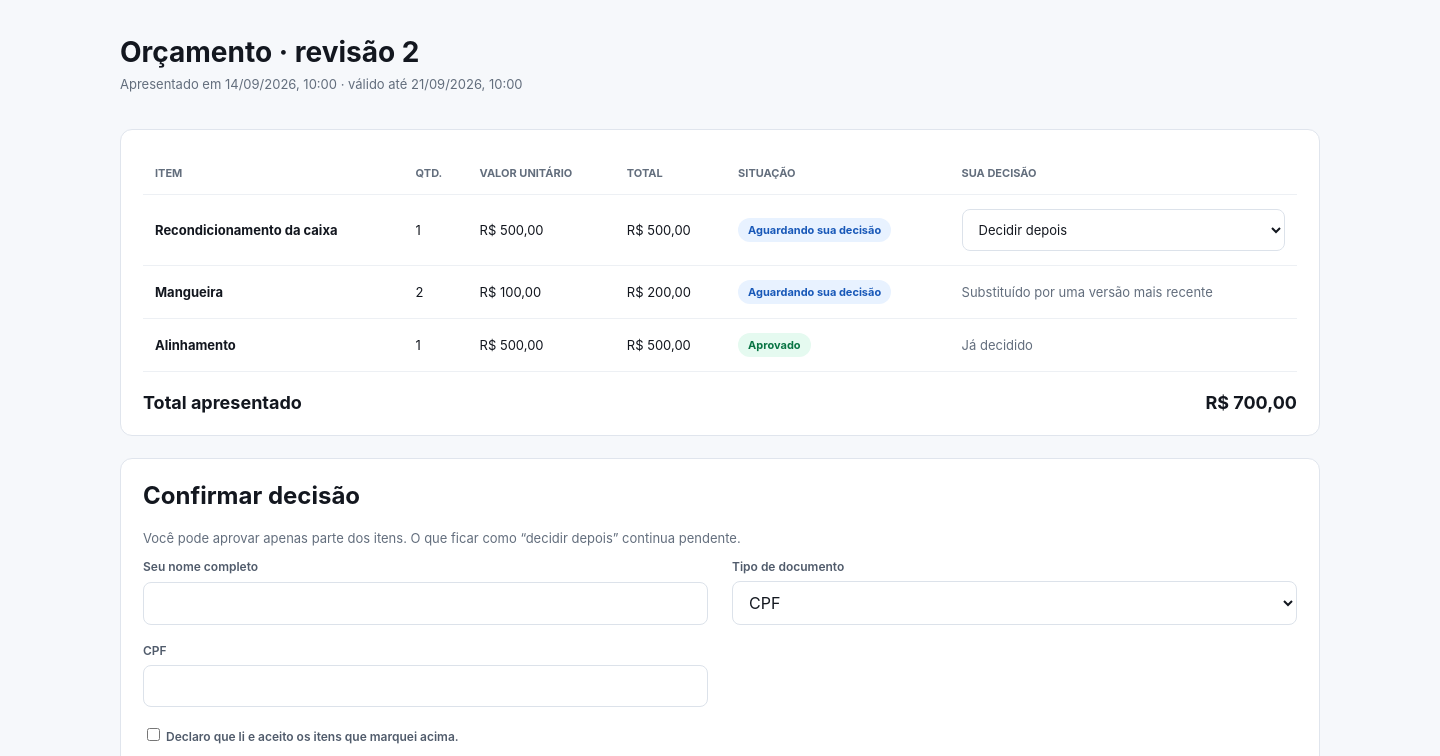
aprovação parcial envia somente os itens decididos
The width and height of the screenshot is (1440, 756).
Step 1. Select "Aprovar" in the dropdown named "Decisão para Recondicionamento da caixa" → point(1123, 230), box [962,209,1285,251]
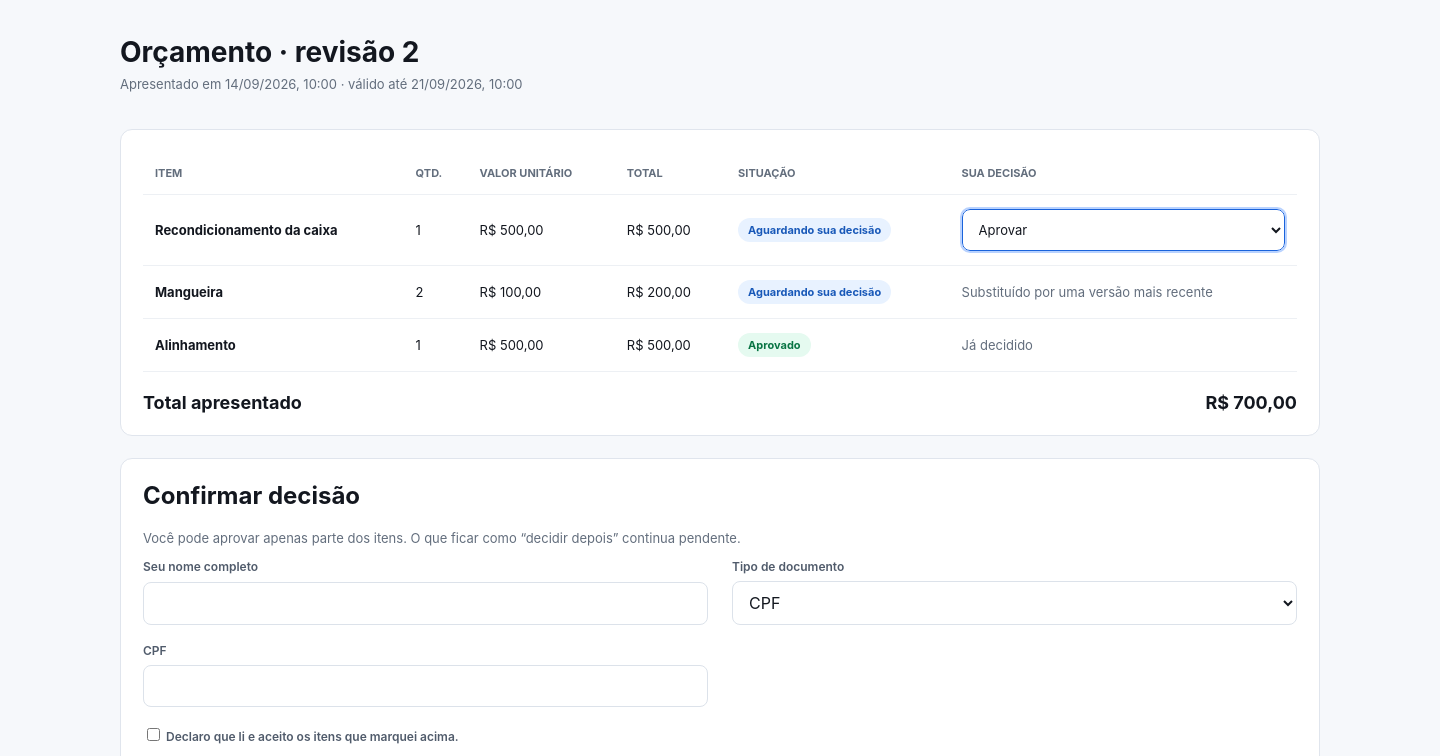
Step 2. Type "José da Silva" into the field labelled "Seu nome completo" → point(426, 603), box [143,582,708,625]
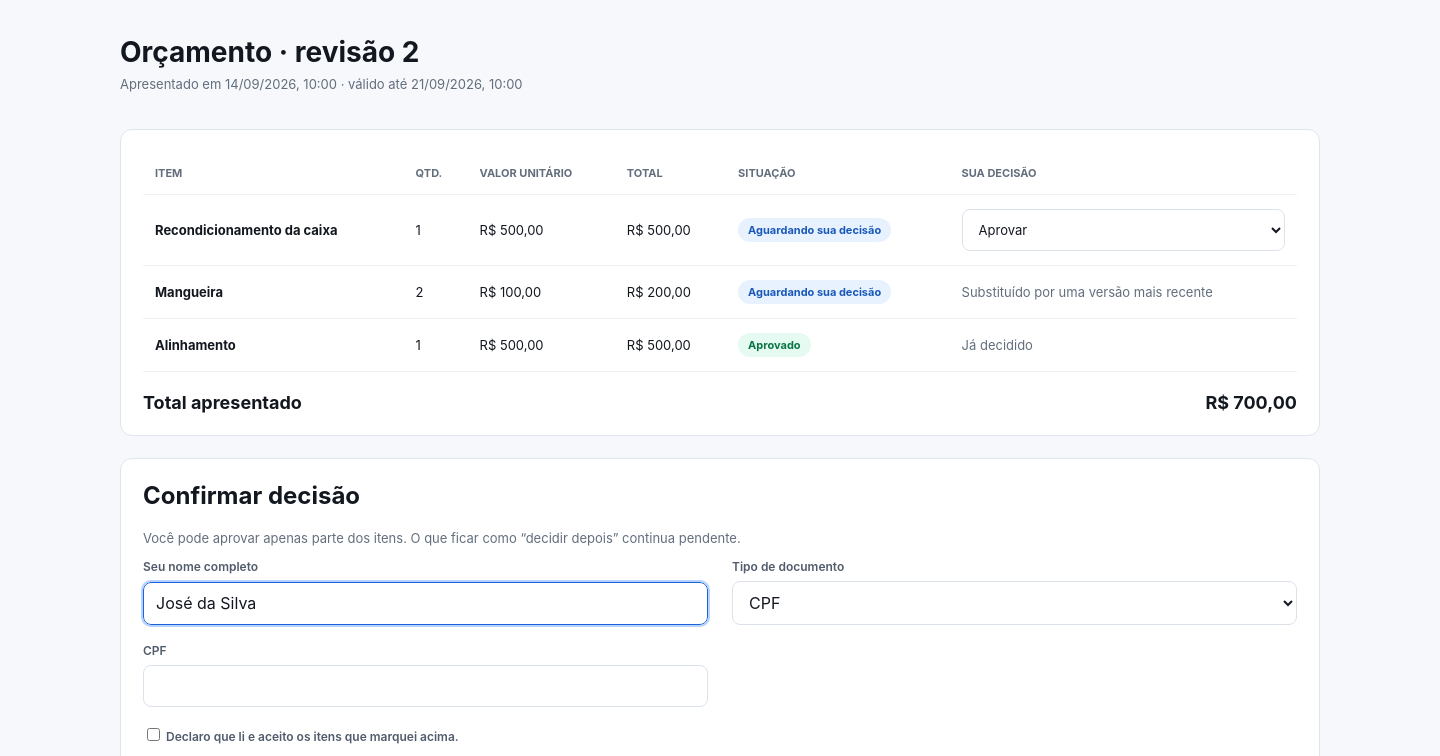
Step 3. Type "12345678901" into the field labelled "CPF" → point(426, 686), box [143,665,708,707]
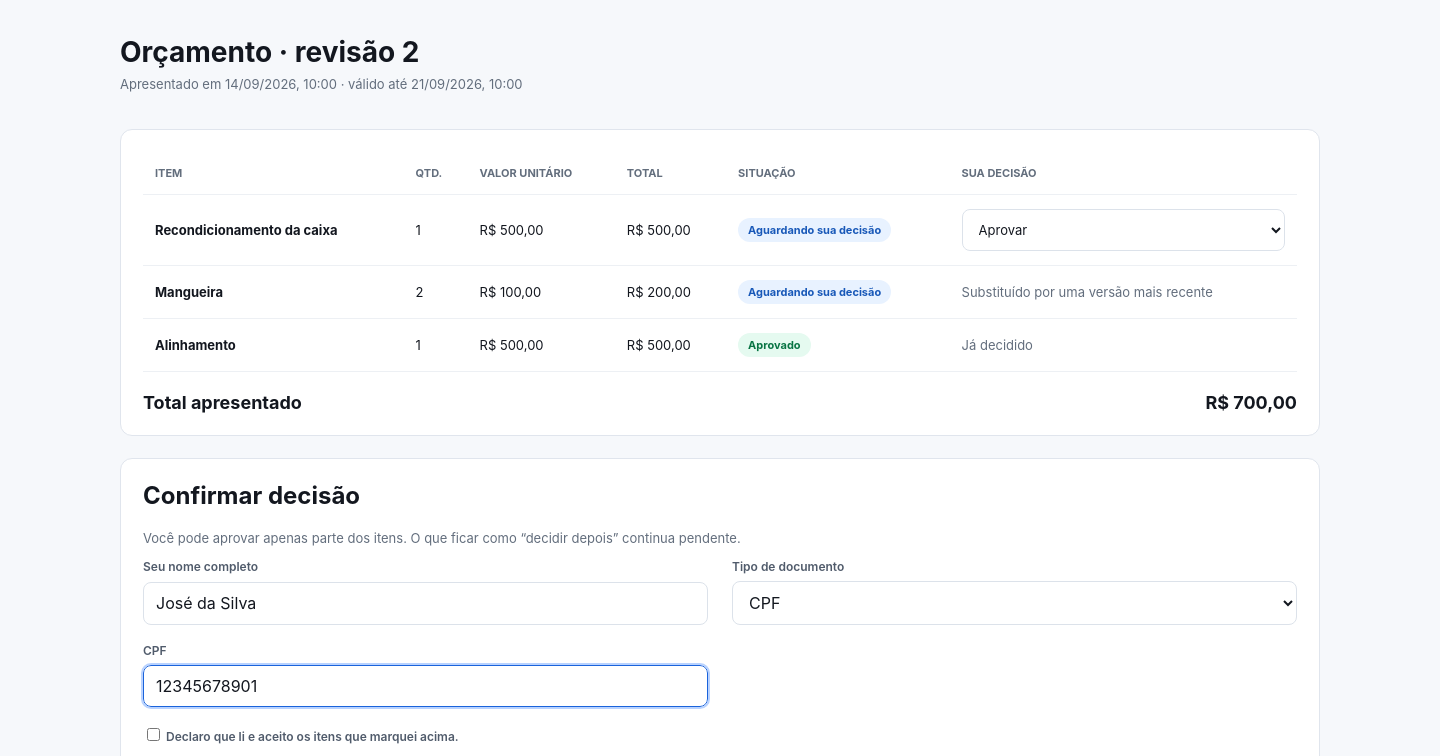
Step 4. Click the checkbox labelled "Declaro que li e aceito os itens que marquei acima." → point(154, 734), box [147,728,160,741]
(page scrolled)
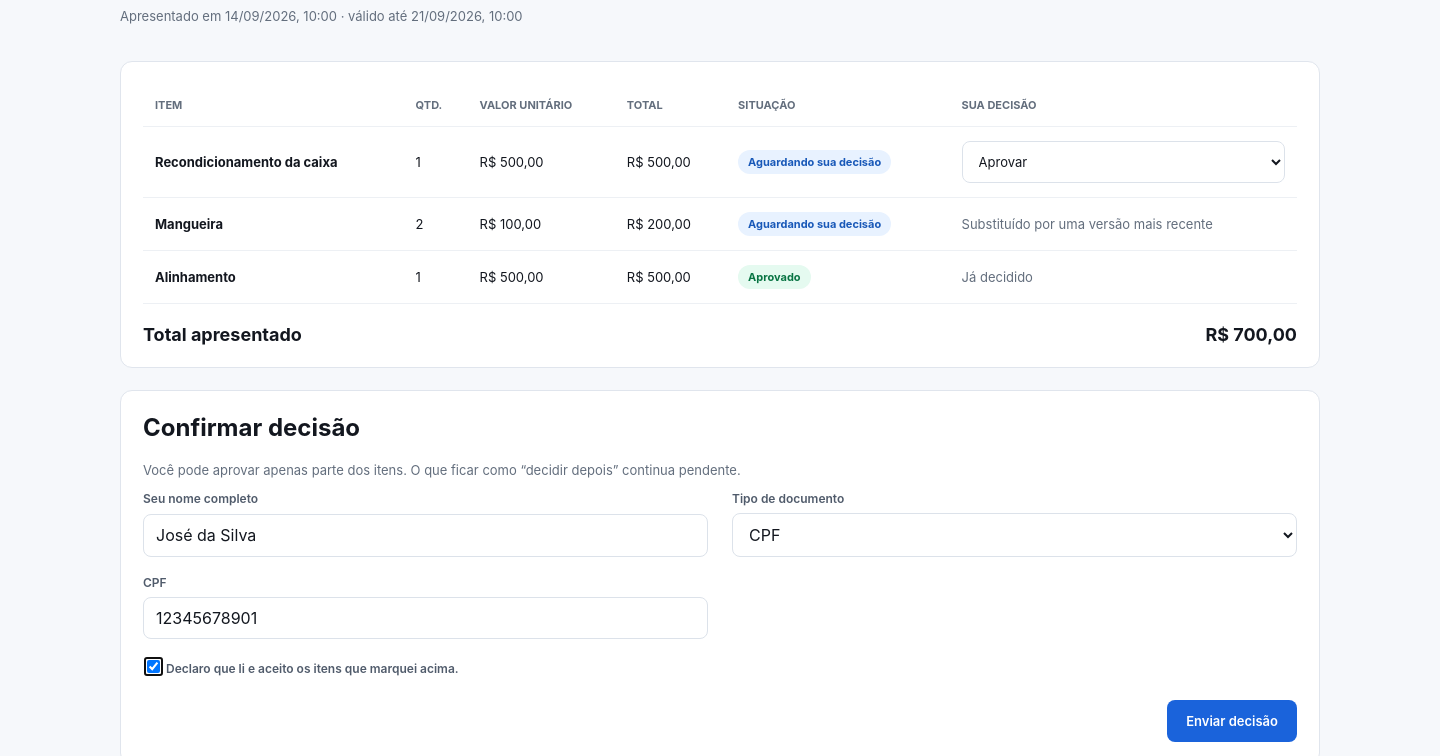
Step 5. Click the button "Enviar decisão" → point(1232, 721), box [1167,700,1297,742]
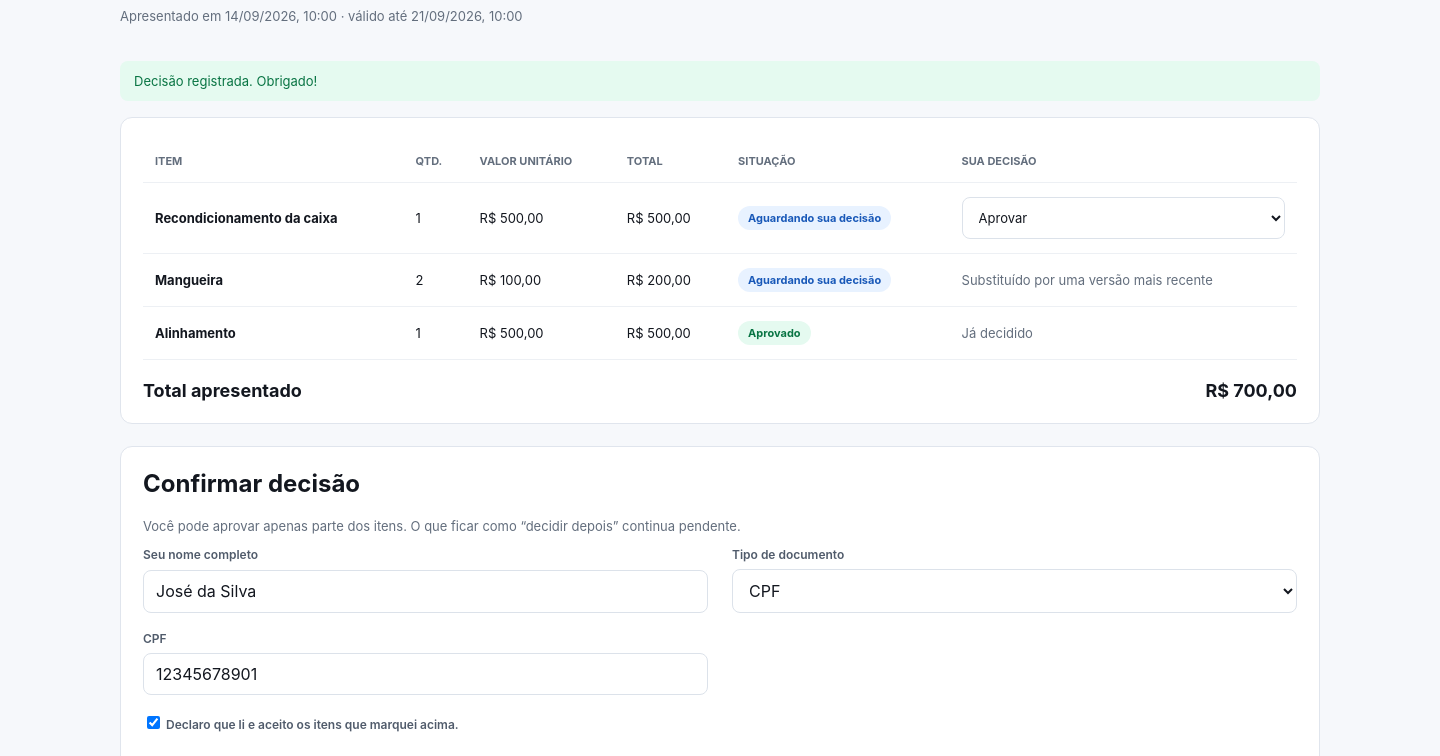
Now the message shows "Decisão registrada", box [134,73,317,89]
